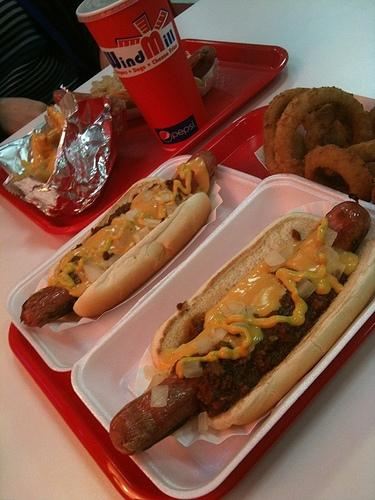onion: (274, 88, 372, 176), (263, 88, 315, 176), (304, 144, 374, 202), (306, 104, 348, 150), (323, 140, 375, 176), (314, 246, 346, 279), (150, 384, 169, 408), (83, 264, 104, 283), (297, 281, 317, 300), (264, 250, 286, 266), (98, 254, 123, 268), (133, 225, 150, 244), (196, 336, 212, 356), (183, 362, 203, 378), (144, 365, 164, 380), (213, 327, 228, 345), (324, 228, 338, 247), (278, 244, 292, 262), (228, 300, 245, 314), (198, 412, 208, 434), (126, 209, 140, 221), (220, 306, 232, 317), (246, 306, 257, 317), (142, 221, 161, 227), (142, 192, 152, 203), (161, 192, 172, 202), (166, 206, 176, 216)
